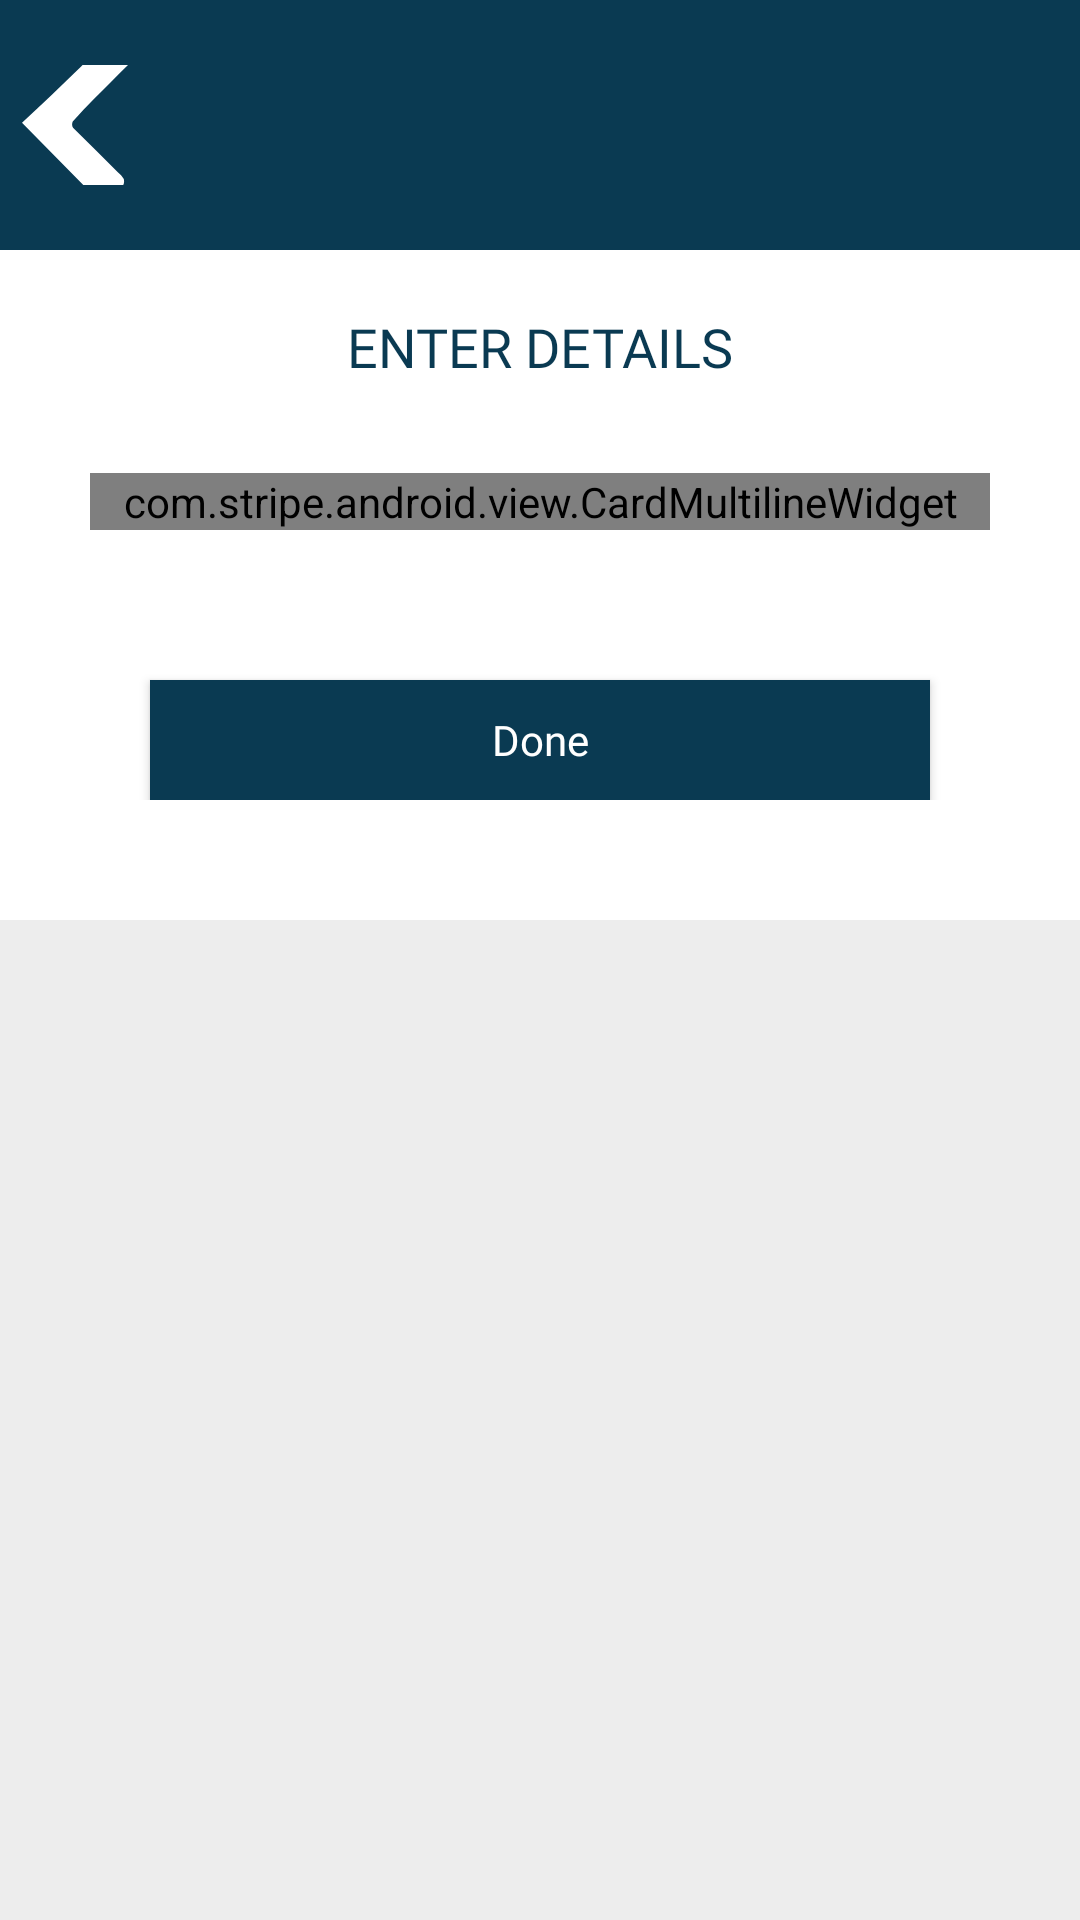

Screen size 1080px×1920px. Icon name, then its center in pixels as [x,y]:
back: [75,125]
